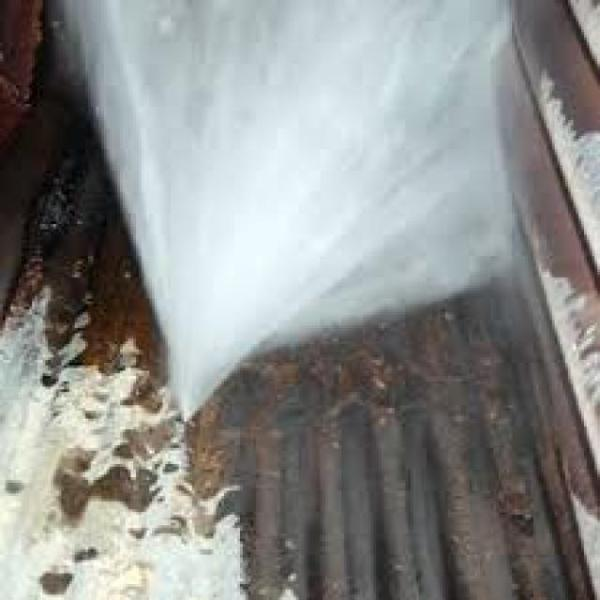pipe burst: (57, 0, 520, 431)
